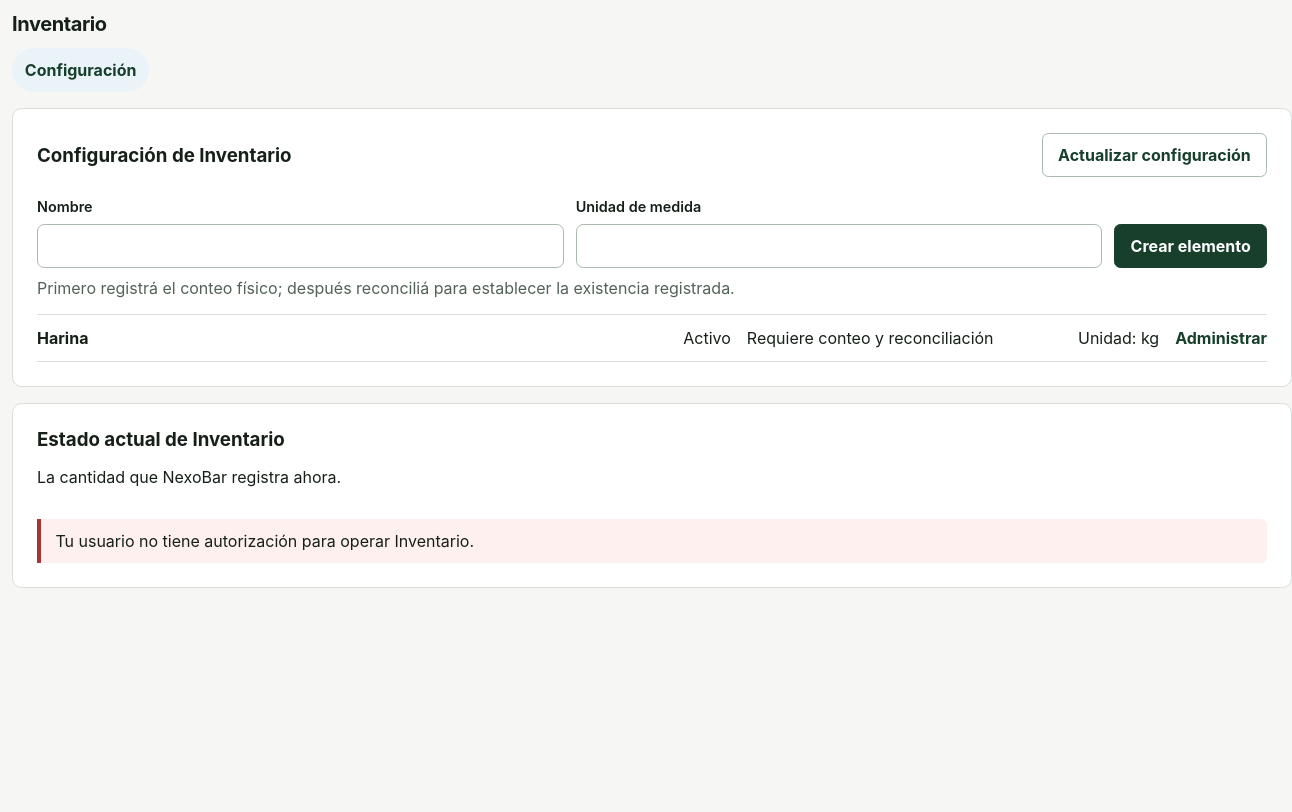
Test: InventoryPanel › treats a create 5xx as uncertain
Expected: the button "Crear elemento" is shown, top-left (1114, 224), bottom-right (1267, 268)
Type "Azúcar" into the field labelled "Nombre" at (300, 246), box top-left (37, 224), bottom-right (564, 268)
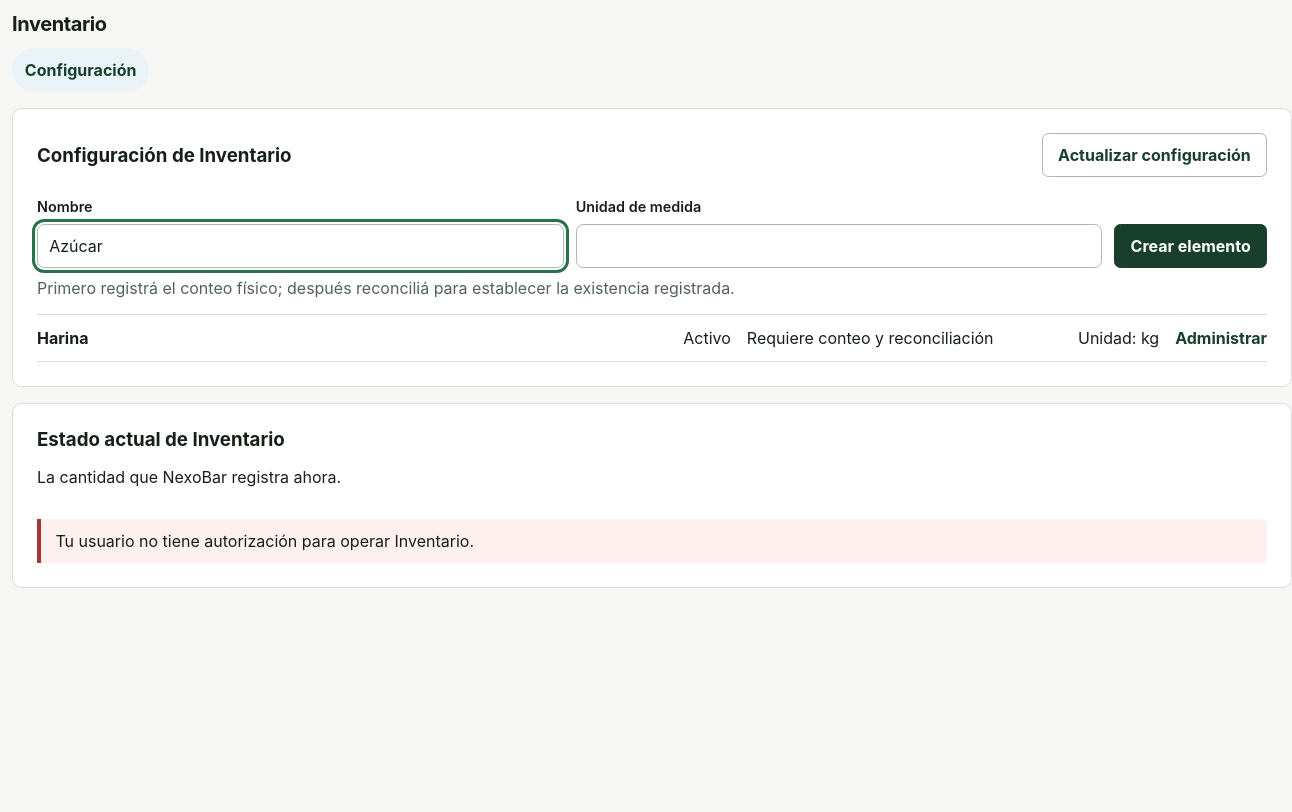
Type "kg" into the field labelled "Unidad de medida" at (839, 246), box top-left (576, 224), bottom-right (1102, 268)
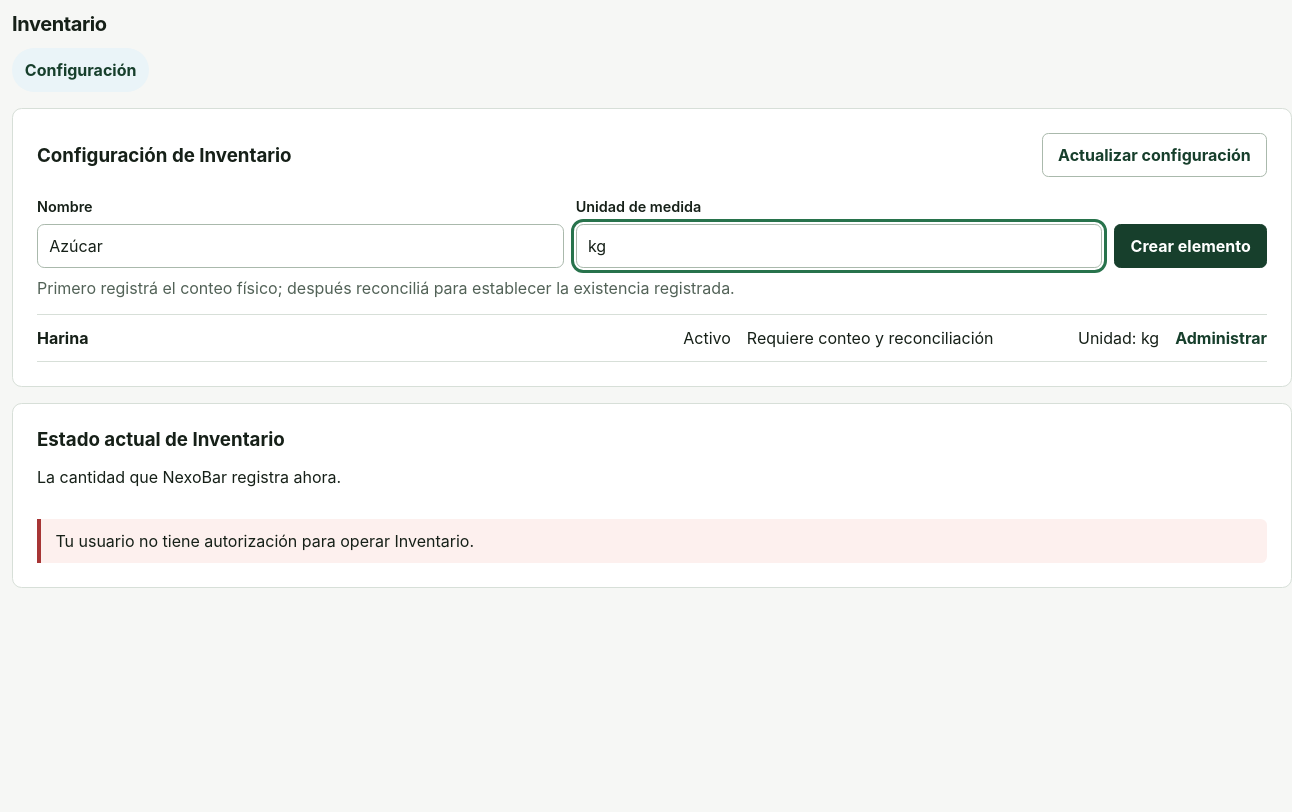
Click the button "Crear elemento" at (1191, 246), box top-left (1114, 224), bottom-right (1267, 268)
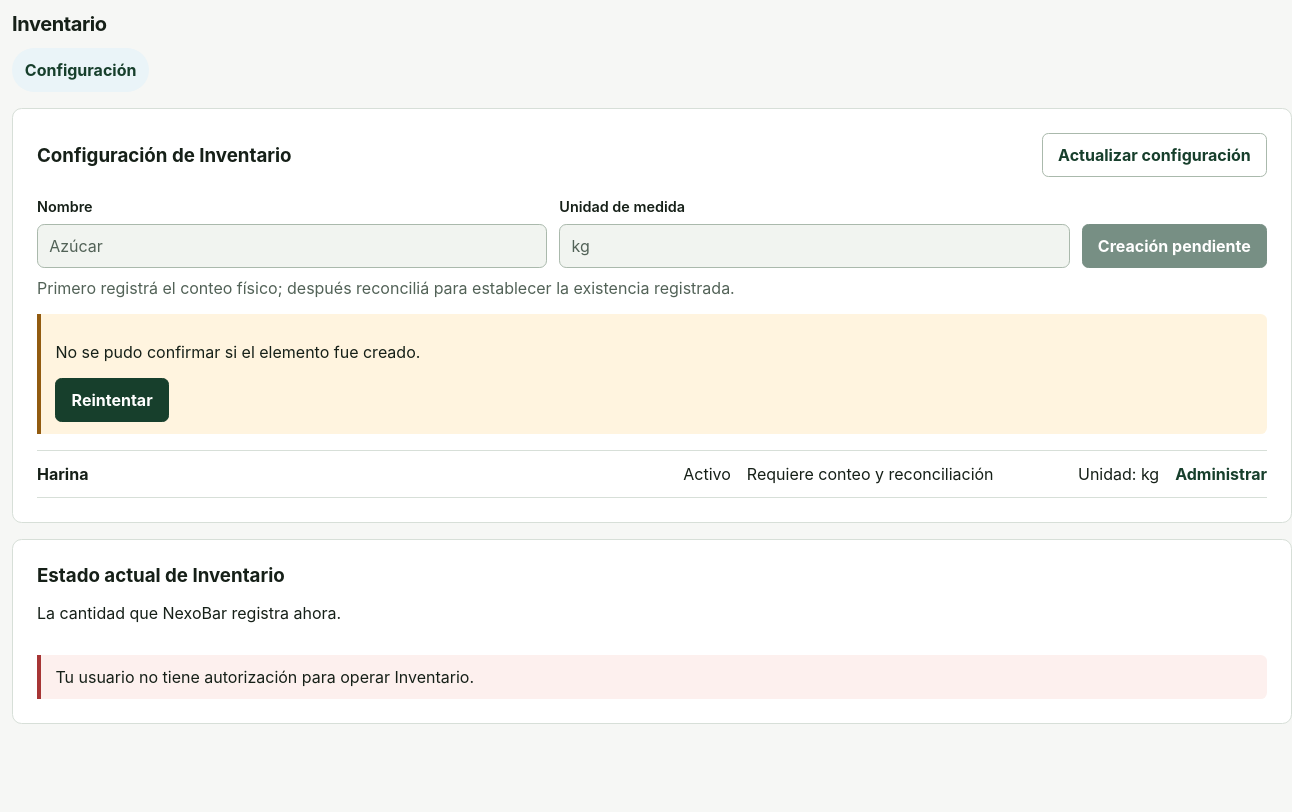
Expected: the text "No se pudo confirmar si el elemento fue creado." is shown, top-left (55, 342), bottom-right (420, 362)
Expected: the button "Reintentar" is shown, top-left (55, 378), bottom-right (169, 422)
